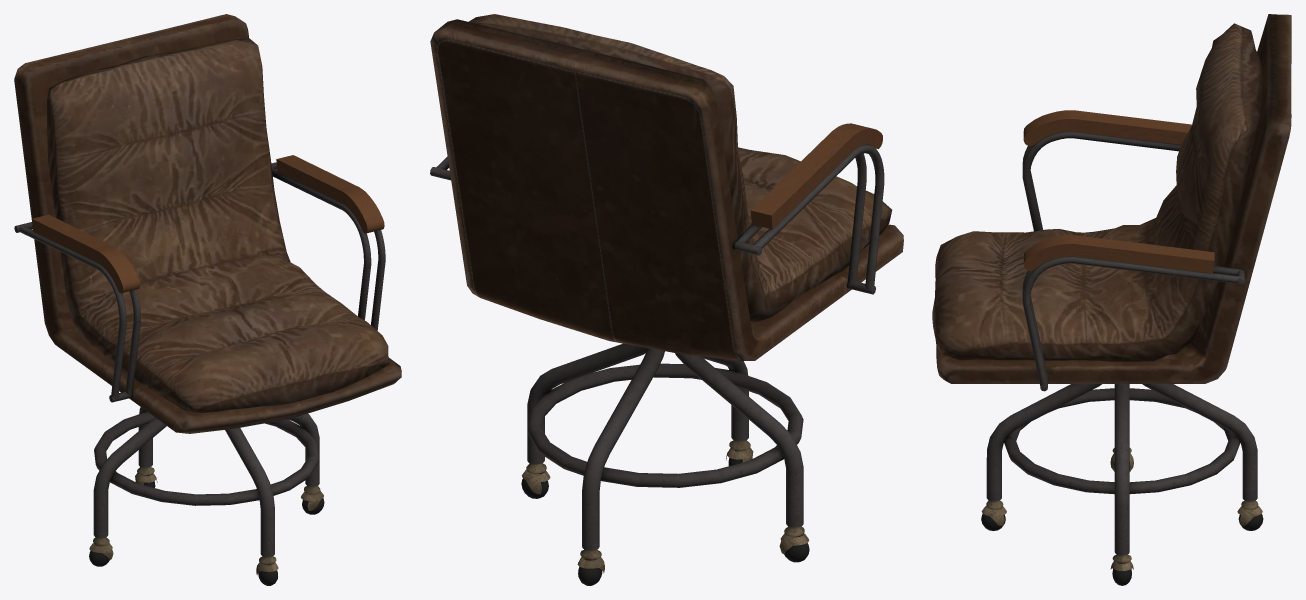
File: office_chair_wrinkly_atthespeedof.glb
3 views of the same model, side by side, from view 1: azimuth 30°, elevation 25°; view 2: azimuth 150°, elevation 25°; view 3: azimuth 270°, elevation 25° (orthographic). The views are drawn at different scales.
Visible parts, largest first — view 1: chairtop_chair_0; view 2: chairtop_chair_0; view 3: chairtop_chair_0.
Part boxes in pixels (x1,y1,x2,y2): chairtop_chair_0: (14,14,401,585); chairtop_chair_0: (430,14,903,585); chairtop_chair_0: (932,14,1291,585).
Size of the model in its own units: 0.7326 by 1.15 by 0.8075.
1 material, 1 textured.
